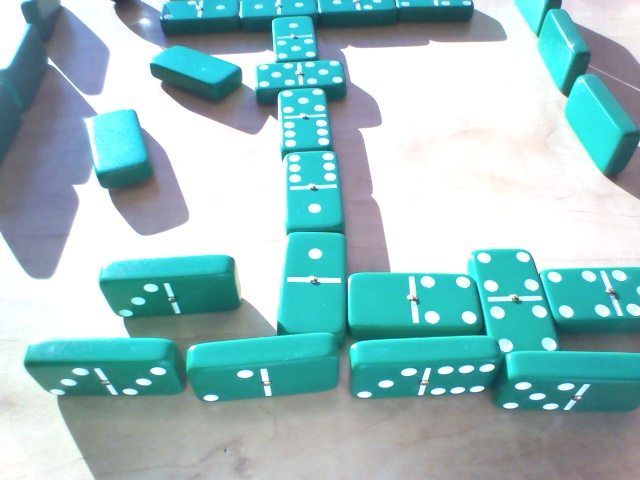A: (74, 105, 152, 188), (142, 39, 245, 100)
B: (463, 250, 562, 360), (346, 265, 479, 336), (273, 231, 352, 339), (537, 256, 640, 329), (280, 150, 343, 231), (254, 57, 351, 99), (277, 90, 339, 150), (266, 15, 325, 61), (159, 2, 240, 31), (320, 1, 398, 25), (398, 2, 480, 24), (241, 1, 320, 23)
C: (3, 23, 53, 105), (20, 1, 75, 37), (1, 79, 23, 168)
D: (562, 73, 640, 184), (533, 10, 593, 94), (512, 1, 565, 37)
E: (18, 336, 182, 410), (184, 330, 346, 404), (95, 248, 247, 322), (500, 348, 640, 419), (344, 339, 501, 401)
